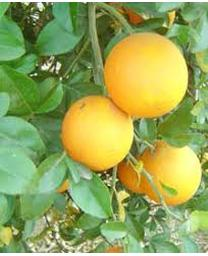lemon: (102, 32, 188, 119), (61, 96, 133, 171), (139, 141, 202, 203)
